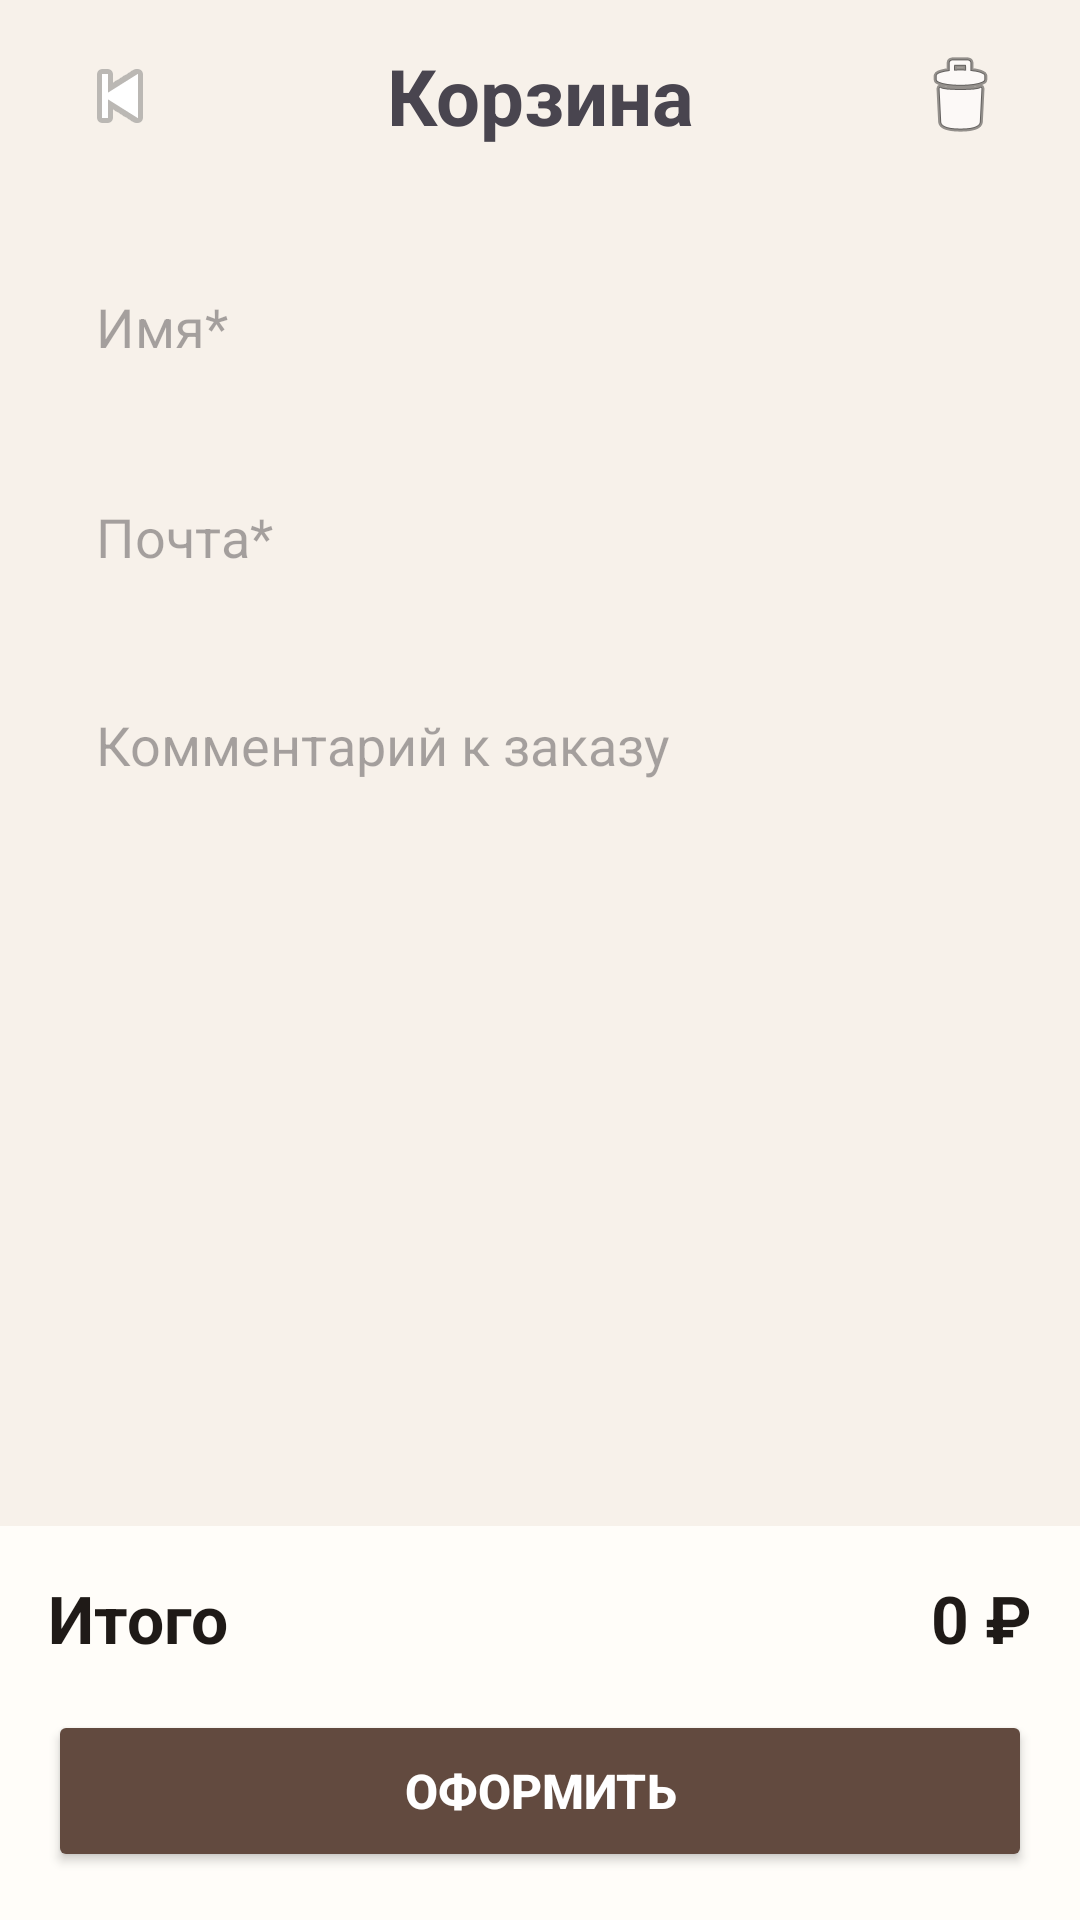

Screen size 1080 × 1920. Icon name, then its center in pixels as (x,y):
delete: (960,94)
previous: (120,96)
